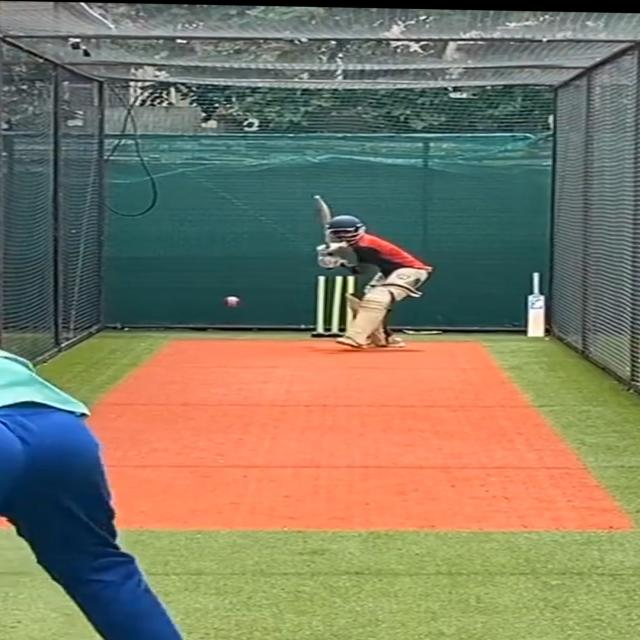ball: (220, 292, 246, 311)
stump: (312, 274, 359, 338)
